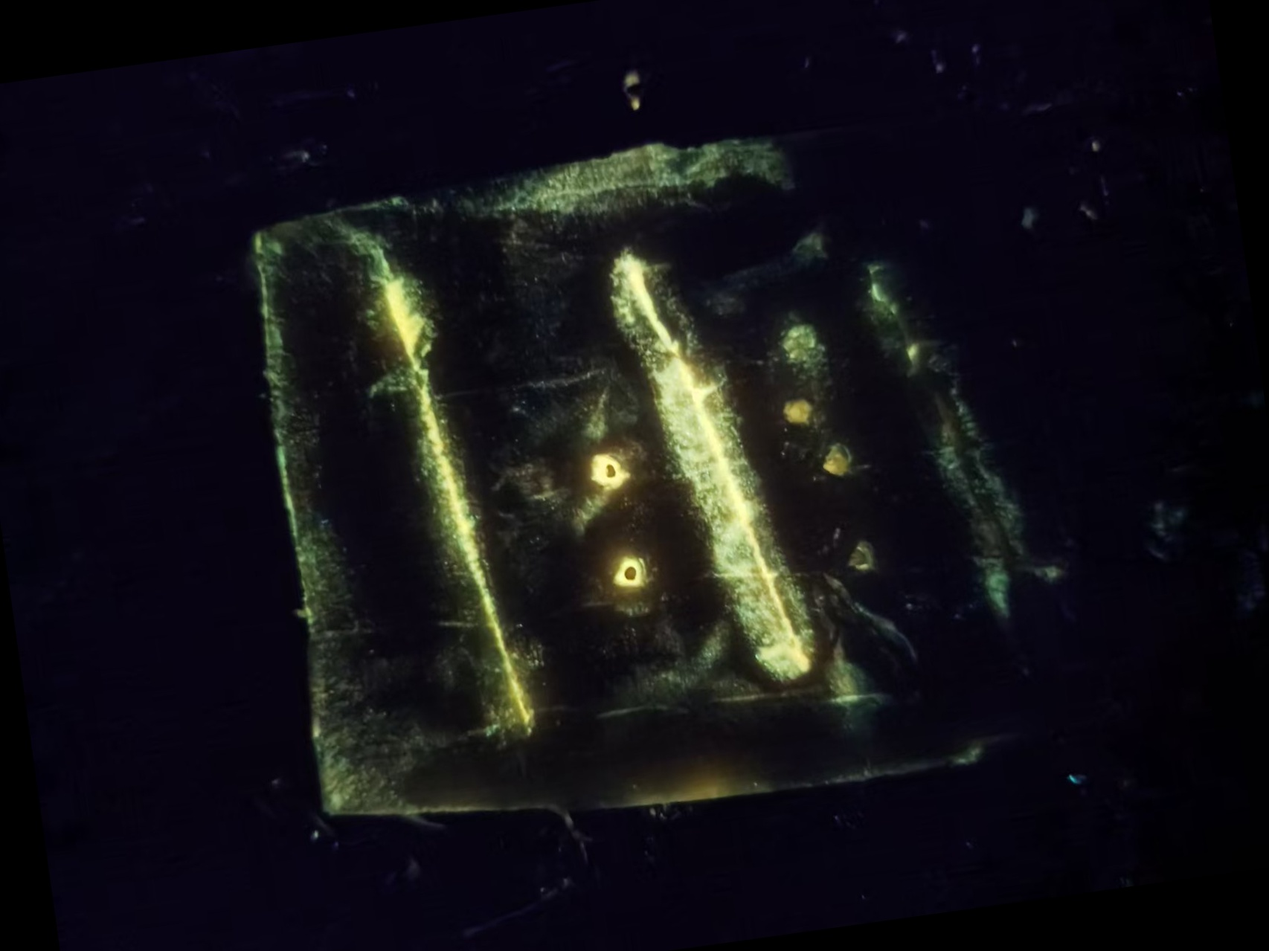Crater: (563, 436, 655, 512), (589, 541, 677, 605), (801, 430, 873, 499), (767, 383, 827, 447)
Fissure: (326, 209, 565, 759), (583, 215, 846, 710)
